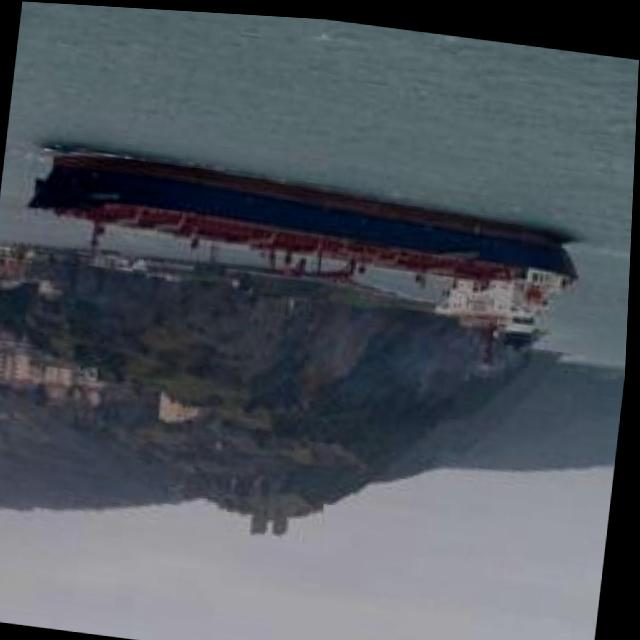ship2: (23, 145, 580, 368)
